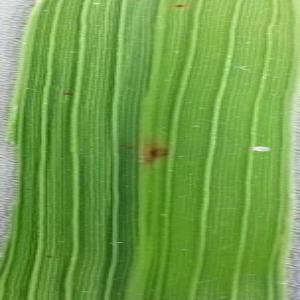Brown_Spot: (141, 141, 171, 165), (58, 86, 77, 99), (42, 251, 58, 262), (172, 1, 188, 11), (115, 139, 127, 149), (126, 144, 136, 153)
